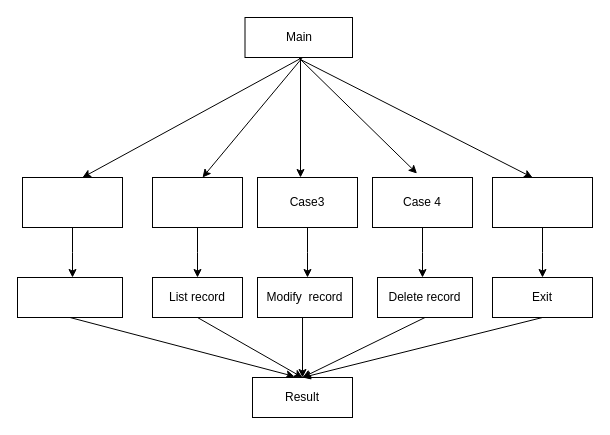
The diagram is 610 pixels wide and 435 high, and some of its shapes have lost their labels. Here are the shapes that lost their labels. From the top down, the centre of each, then its label:
At [72,202]: "Case 1".
At [197,202]: "case 2".
At [542,202]: "Case 5".
At [69,297]: "Add record".
